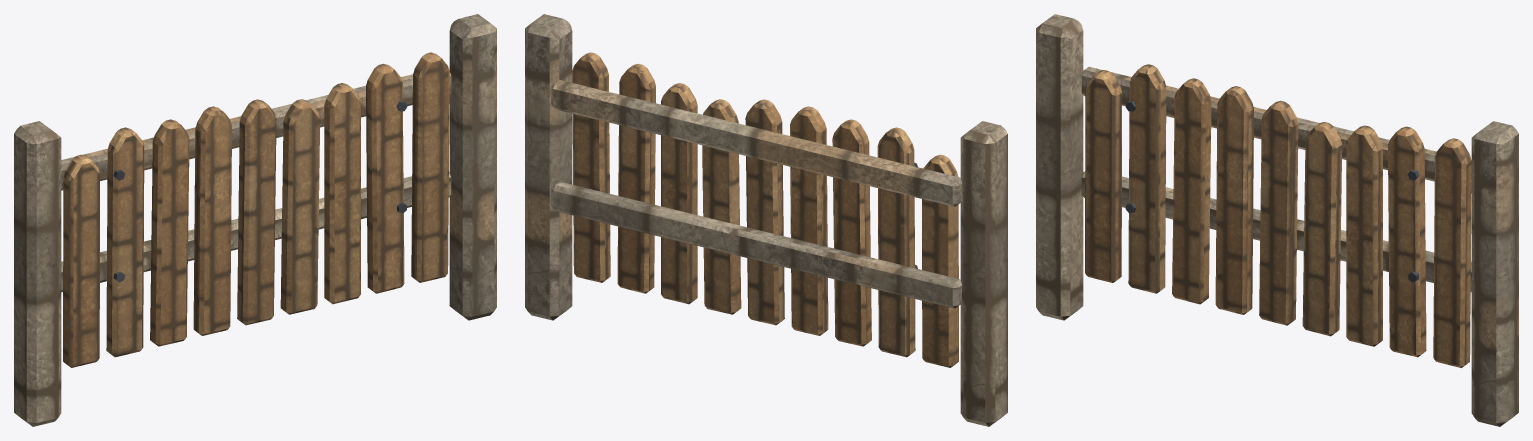
The model's file is cit.glb.
The picture shows the model from 3 angles, left to right: view 1: azimuth 30°, elevation 25°; view 2: azimuth 150°, elevation 25°; view 3: azimuth 330°, elevation 25°; orthographic projection.
Visible parts, largest first — view 1: cit; view 2: cit; view 3: cit.
Part boxes in pixels (bbox=[...]): cit: bbox=[14, 14, 496, 426]; cit: bbox=[525, 14, 1007, 426]; cit: bbox=[1036, 14, 1518, 426].
Bounding box in the file's own units: 3 × 1.78 × 0.26.
Materials: 1 (1 with a texture image).
